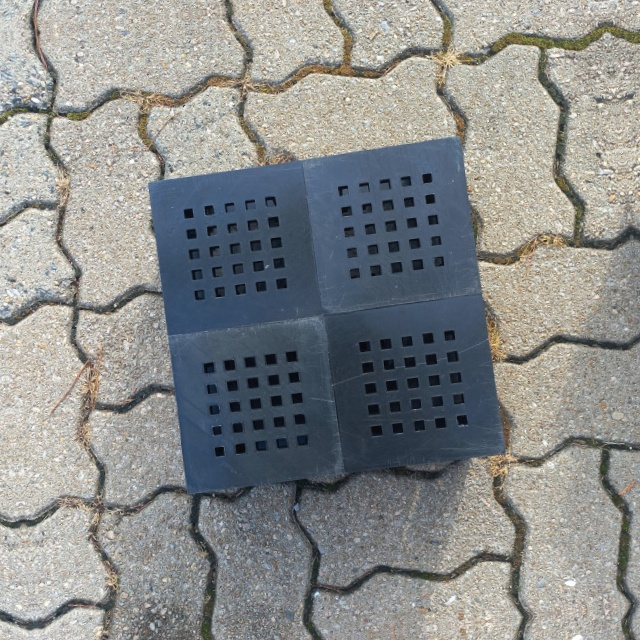pallet: (144, 126, 522, 507)
